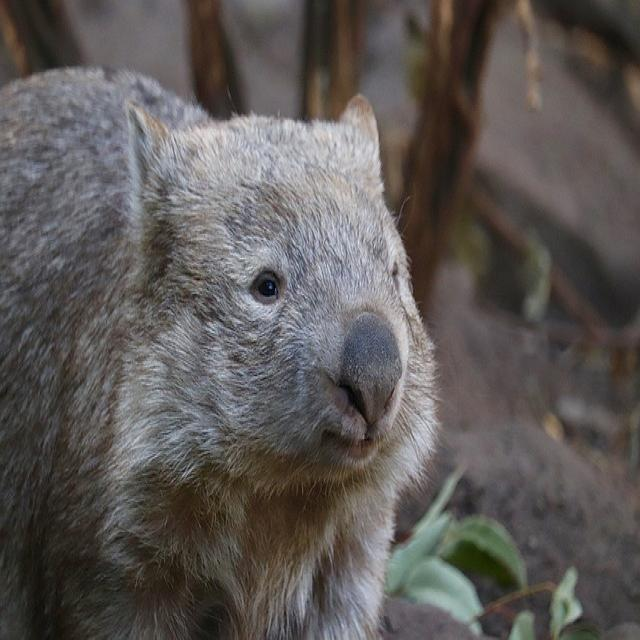Wombat: (0, 58, 440, 640)
